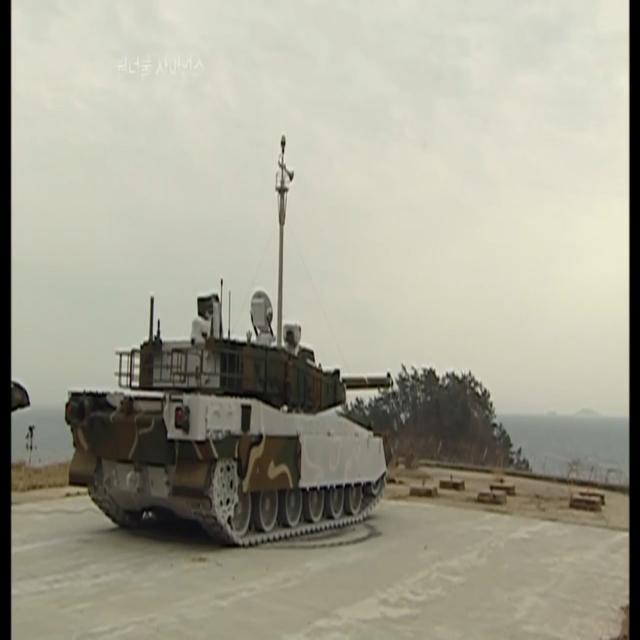korea tank: (63, 288, 395, 547)
